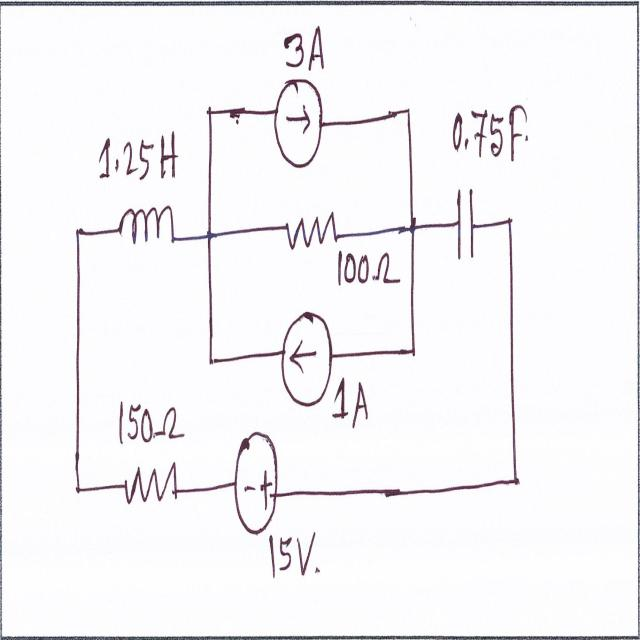capacitor: (453, 180, 483, 270)
current_source: (272, 299, 340, 411), (268, 76, 328, 175)
inductor: (114, 201, 178, 259)
resistor: (121, 457, 180, 519), (280, 209, 341, 258)
voltage_source: (230, 417, 282, 542)
